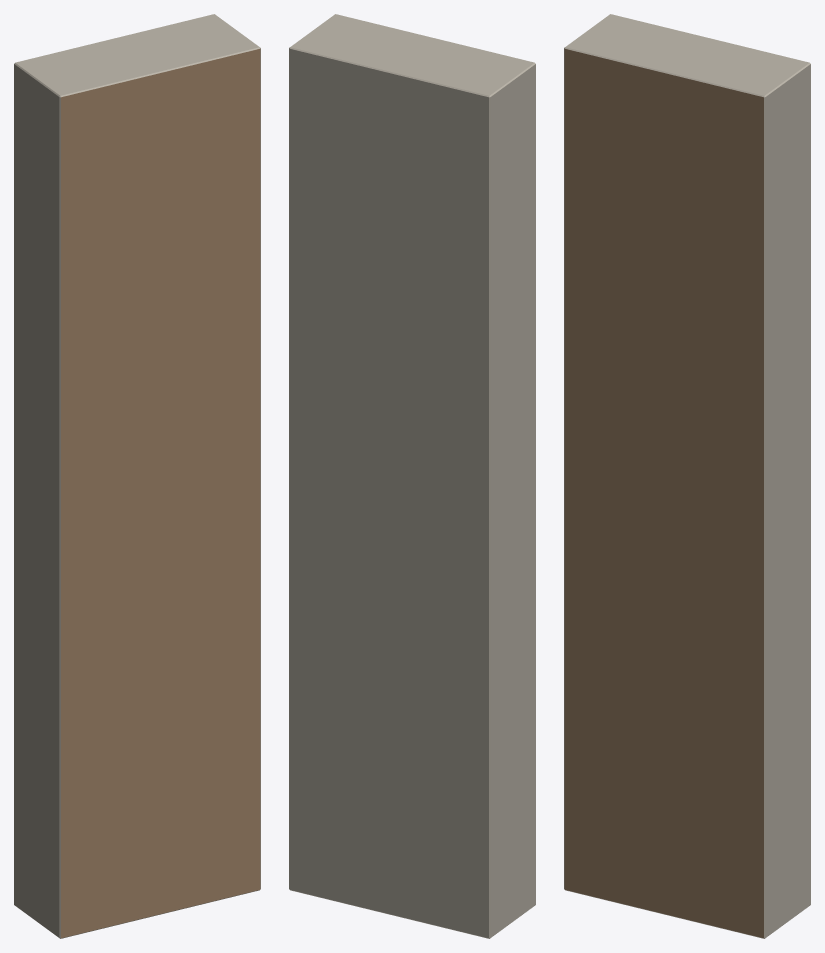
Rendered from arch_wall_ext_w100_h400.glb.
3 views of the same model, side by side, from view 1: azimuth 30°, elevation 25°; view 2: azimuth 150°, elevation 25°; view 3: azimuth 330°, elevation 25° (orthographic).
Visible parts, largest first — view 1: Wall; view 2: Wall; view 3: Wall.
Part boxes in pixels (x1,y1,x2,y2): Wall: (14, 14, 260, 938); Wall: (289, 14, 535, 938); Wall: (564, 14, 810, 938).
Size of what is drawn, in the model's own units: 1 by 4 by 0.4.
